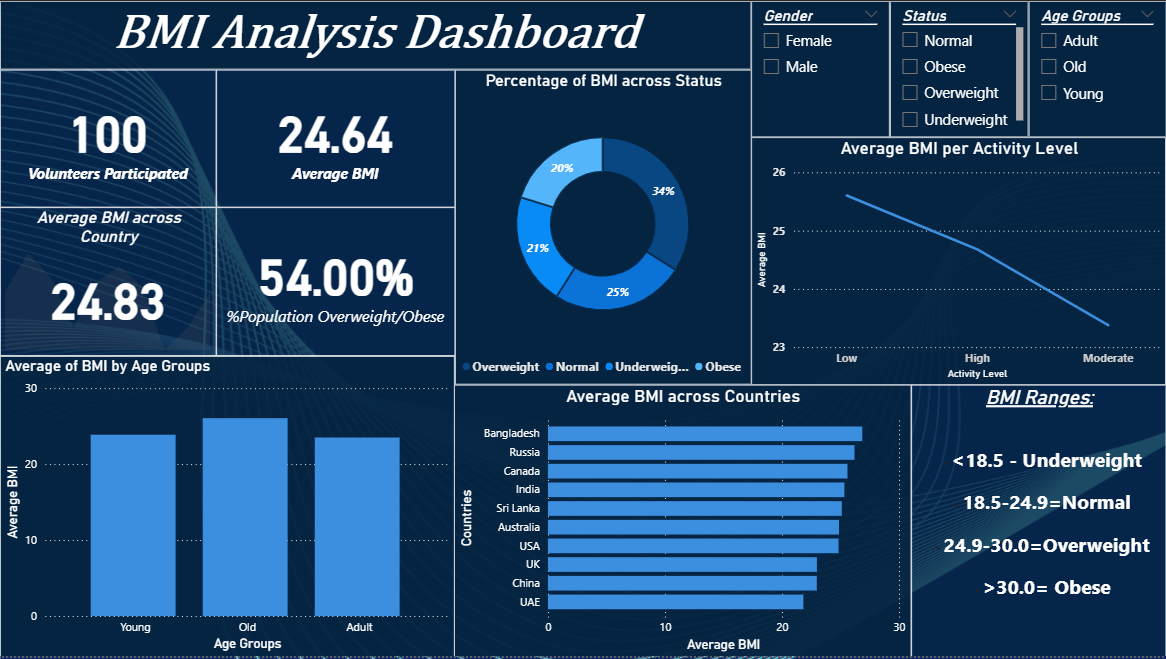

Layout of this report page (visuals, bound fields, positions):
{"tool":"powerbi","page":{"name":"Page 1","canvas":[1280,720],"ordinal":0},"visuals":[{"type":"lineChart","title":"Average BMI per Activity Level","fields":{"Category":["BMI_Data.Activity Level"],"Y":["Avg(BMI_Data.BMI)"]},"box":[824.7,149.6,455.6,271.7],"z":0},{"type":"clusteredBarChart","title":"Average BMI across Countries","fields":{"Category":["BMI_Data.Country"],"Y":["Avg(BMI_Data.BMI)"]},"box":[498.1,421.3,502.2,299.1],"z":1000},{"type":"slicer","fields":{"Values":["BMI_Data.Gender"]},"box":[824.7,0,152.3,149.6],"z":2000},{"type":"lineClusteredColumnComboChart","fields":{"Y":["Avg(BMI_Data.BMI)"],"Category":["BMI_Data.Age Groups"]},"box":[0,389.7,499.5,330.7],"z":3000},{"type":"card","title":"volunteers participated","fields":{"Values":["CountNonNull(BMI_Data.Name)"]},"box":[0,75.5,237.4,150.9],"z":4000},{"type":"slicer","fields":{"Values":["BMI_Data.Status"]},"box":[977,0,152.3,149.6],"z":5000},{"type":"kpi","title":"Average BMI across Country","fields":{"TrendLine":["BMI_Data.Country"],"Indicator":["Avg(BMI_Data.BMI)"]},"box":[0,226.4,237.4,163.3],"z":6000},{"type":"slicer","fields":{"Values":["BMI_Data.Age Groups"]},"box":[1129.3,0,150.9,149.6],"z":7000},{"type":"card","fields":{"Values":["Avg(BMI_Data.BMI)"]},"box":[237.4,75.5,262.1,150.9],"z":8000},{"type":"textbox","box":[0,0,824.7,75.5],"z":9000},{"type":"card","fields":{"Values":["BMI_Data.Overweight_Obese_Percentage"]},"box":[237.4,226.4,262.1,163.3],"z":10000},{"type":"donutChart","title":"Percentage of BMI across Status","fields":{"Y":["BMI_Data.BMI Count"],"Category":["BMI_Data.Status"]},"box":[499.5,75.5,325.2,345.8],"z":11000},{"type":"textbox","title":"BMI Ranges:","box":[1000.3,421.3,279.9,299.1],"z":11001}]}

Visuals, with their boxes in screenshot pixels (x1, y1, x2, y2), scaled from the page's 1280x720 canvas onto the 1166x659 screenshot:
"Average BMI per Activity Level" lineChart: detection(751, 137, 1165, 386)
"Average BMI across Countries" clusteredBarChart: detection(454, 386, 911, 658)
slicer - BMI_Data.Gender: detection(751, 0, 890, 137)
lineClusteredColumnComboChart - Avg(BMI_Data.BMI) x BMI_Data.Age Groups: detection(0, 357, 455, 658)
"volunteers participated" card: detection(0, 69, 216, 207)
slicer - BMI_Data.Status: detection(890, 0, 1029, 137)
"Average BMI across Country" kpi: detection(0, 207, 216, 357)
slicer - BMI_Data.Age Groups: detection(1029, 0, 1165, 137)
card - Avg(BMI_Data.BMI): detection(216, 69, 455, 207)
textbox: detection(0, 0, 751, 69)
card - BMI_Data.Overweight_Obese_Percentage: detection(216, 207, 455, 357)
"Percentage of BMI across Status" donutChart: detection(455, 69, 751, 386)
"BMI Ranges:" textbox: detection(911, 386, 1165, 658)
